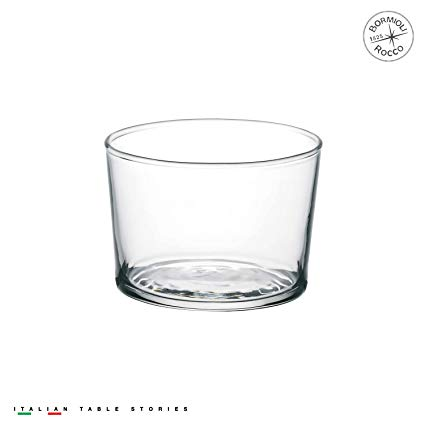slice of bread: (100, 124, 328, 310)
